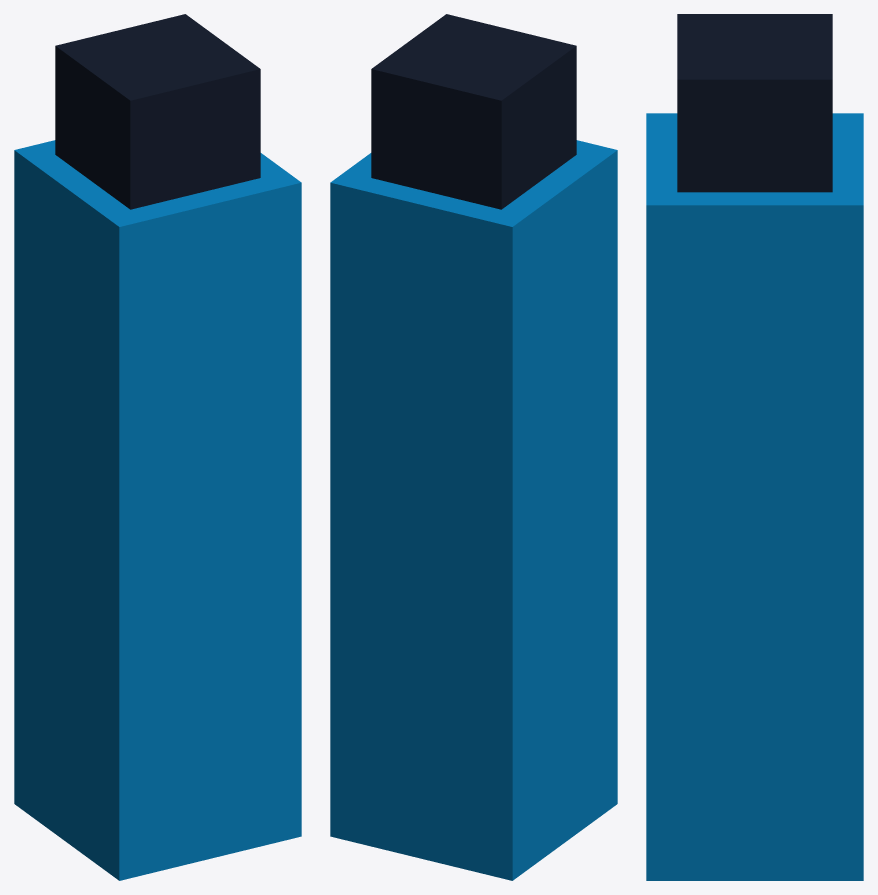
Rendered from glass_tower_a.glb.
The picture shows the model from 3 angles, left to right: view 1: azimuth 30°, elevation 25°; view 2: azimuth 150°, elevation 25°; view 3: azimuth 270°, elevation 25°; orthographic projection. The views are drawn at different scales.
Visible parts, largest first — view 1: GlassTowerA; view 2: GlassTowerA; view 3: GlassTowerA.
Boxes of the visible parts, x1,y1,x2,y2 form: GlassTowerA: (14,14,301,880); GlassTowerA: (330,14,617,880); GlassTowerA: (646,14,863,880).
Size of the model in its own units: 14 by 56 by 14.
